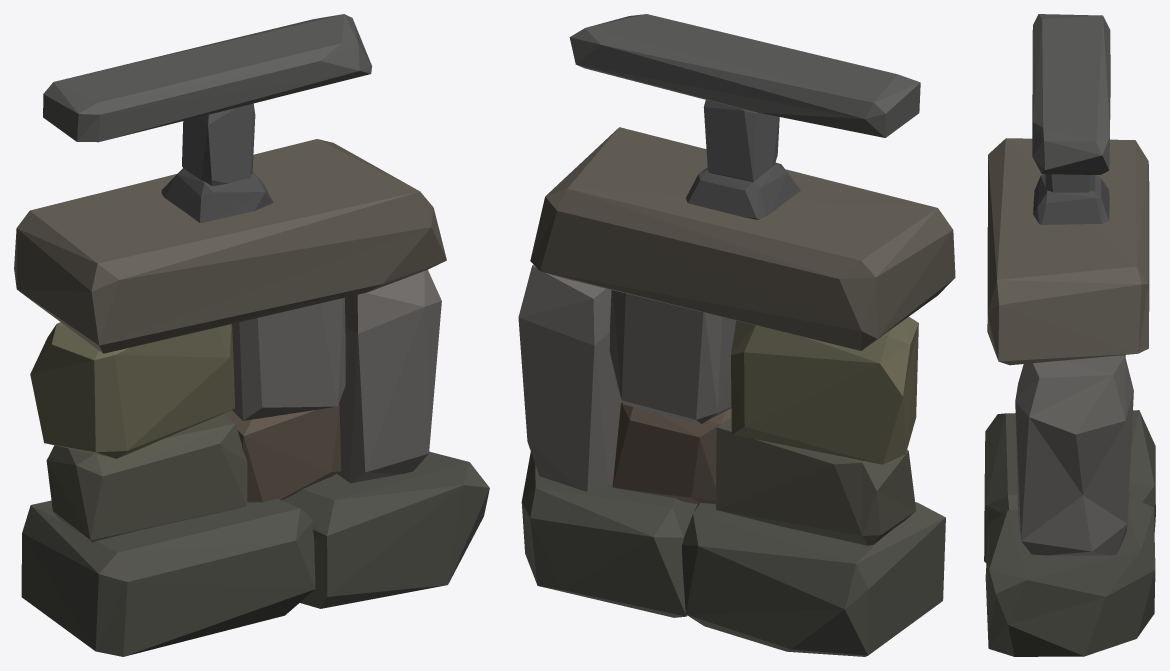
Rendered from um_wall003.FBX.
3 views of the same model, side by side, from view 1: azimuth 30°, elevation 25°; view 2: azimuth 150°, elevation 25°; view 3: azimuth 270°, elevation 25° (orthographic). The views are drawn at different scales.
Parts seen in each view (by area): view 1: um_wall003; view 2: um_wall003; view 3: um_wall003.
Part boxes in pixels (x1,y1,x2,y2): um_wall003: (14,14,489,656); um_wall003: (518,14,955,656); um_wall003: (984,14,1155,656).
Size of the model in its own units: 1.76 by 2.25 by 0.7156.
